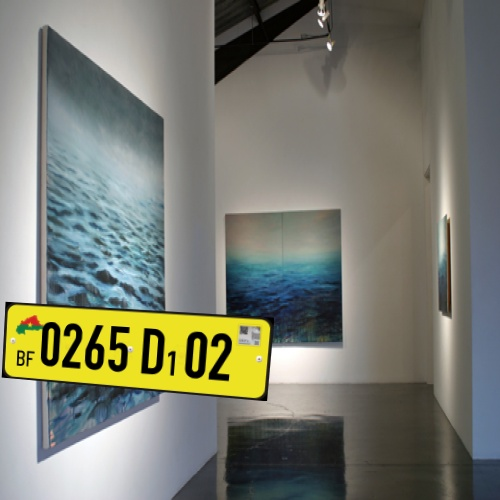plate: (6, 285, 281, 407)
